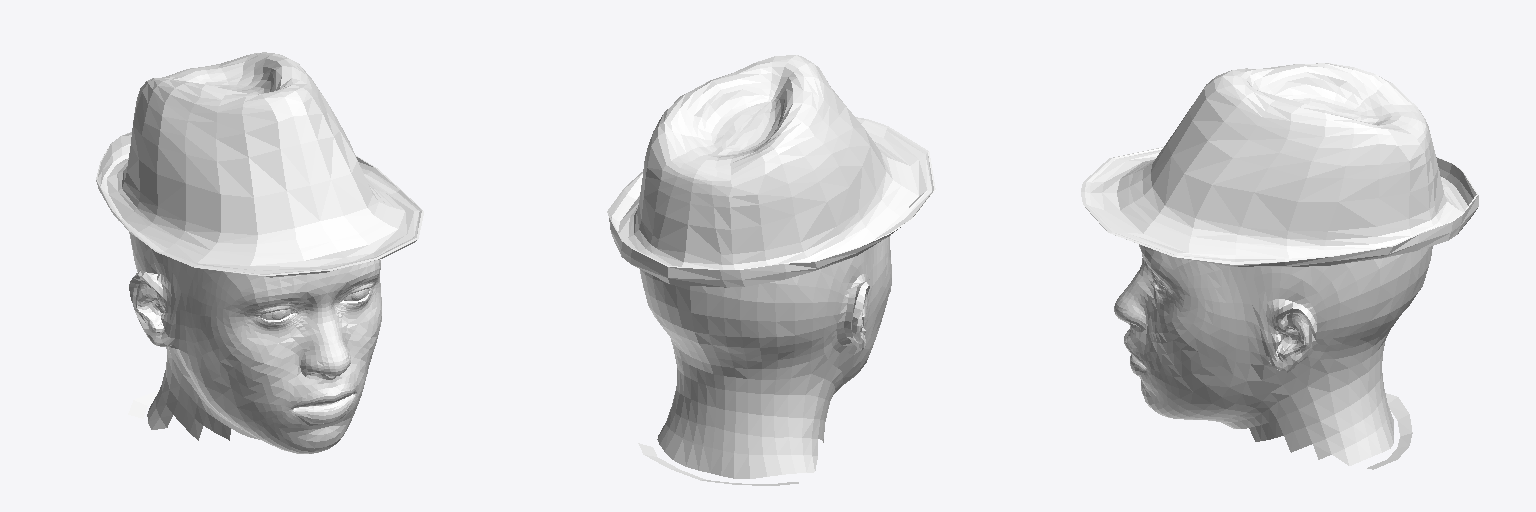
File: headPaint.obj
3 views of the same model, side by side, from view 1: azimuth 30°, elevation 25°; view 2: azimuth 150°, elevation 25°; view 3: azimuth 270°, elevation 25° (orthographic).
Bounding box in the file's own units: 0.1863 × 0.2573 × 0.2578.